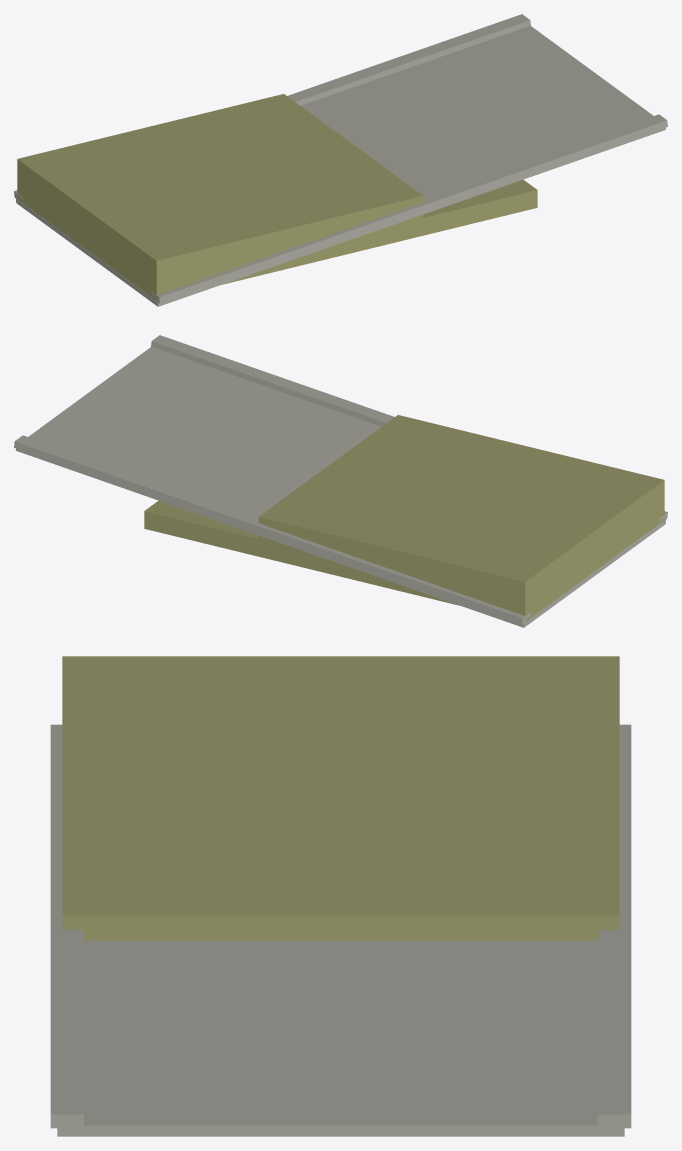
The model's file is SM_MuelleCarga_v3_LOD1.fbx.
The picture shows the model from 3 angles, top to bottom: view 1: azimuth 30°, elevation 25°; view 2: azimuth 150°, elevation 25°; view 3: azimuth 270°, elevation 25°; orthographic projection. The views are drawn at different scales.
Parts seen in each view (by area): view 1: SM_muelle_carga_v3_LOD1; view 2: SM_muelle_carga_v3_LOD1; view 3: SM_muelle_carga_v3_LOD1.
Boxes of the visible parts, left/top/right/bottom form: SM_muelle_carga_v3_LOD1: left=14, top=14, right=667, bottom=306; SM_muelle_carga_v3_LOD1: left=14, top=335, right=667, bottom=627; SM_muelle_carga_v3_LOD1: left=50, top=656, right=631, bottom=1136.
Bounding box in the file's own units: 12.01 × 1.44 × 5.94.
